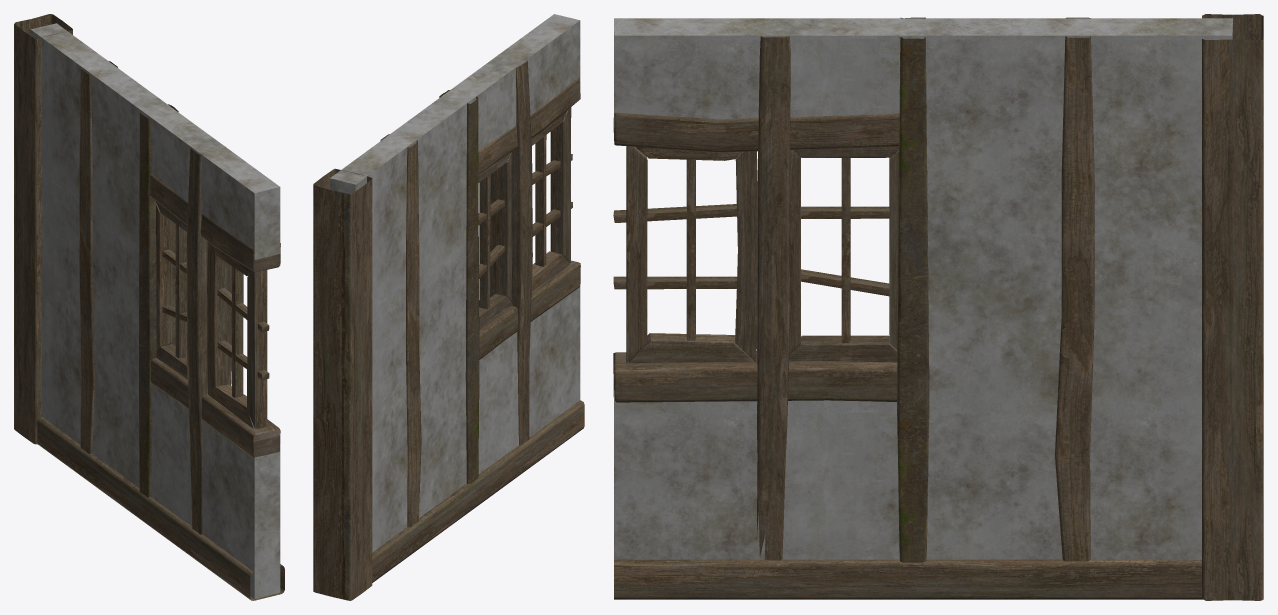
File: SM_Wall37.fbx
The picture shows the model from 3 angles, left to right: view 1: azimuth 30°, elevation 25°; view 2: azimuth 150°, elevation 25°; view 3: azimuth 270°, elevation 25°; orthographic projection. The views are drawn at different scales.
Visible parts, largest first — view 1: SM_Wall37_LOD0; view 2: SM_Wall37_LOD0; view 3: SM_Wall37_LOD0.
Part boxes in pixels (bbox=[...]): SM_Wall37_LOD0: bbox=[14, 14, 284, 600]; SM_Wall37_LOD0: bbox=[313, 14, 584, 600]; SM_Wall37_LOD0: bbox=[613, 14, 1263, 600].
Bounding box in the file's own units: 30 × 315 × 301.
